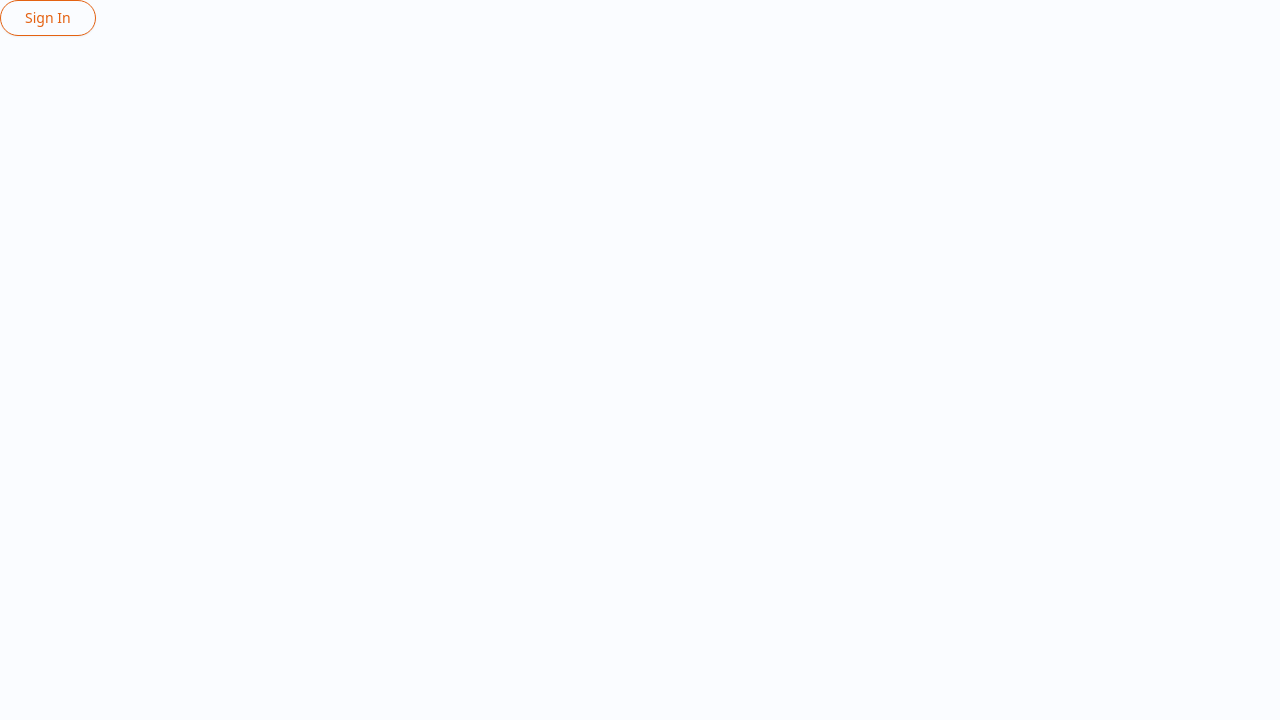
Test: AuthDialog › shows email input step when "Continue with Email" is clicked
Click the button "Sign In": point(48, 18) x1=0 y1=0 x2=96 y2=36
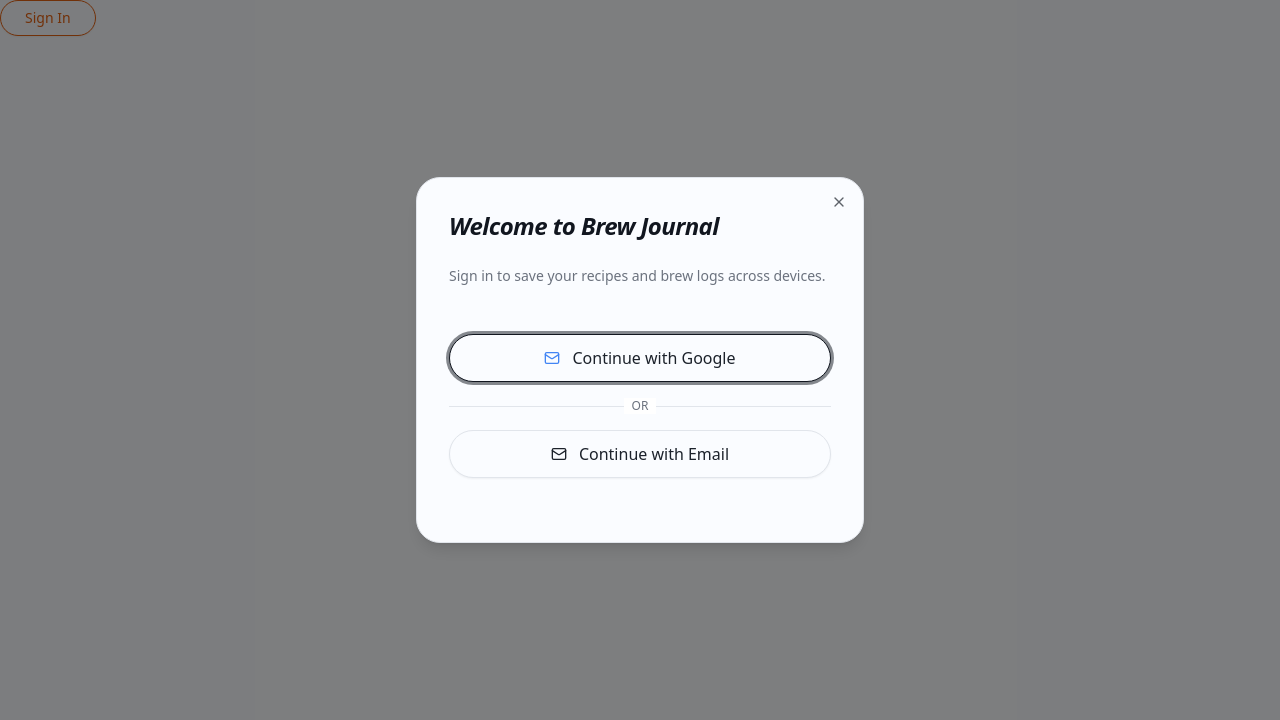
Click the button "Continue with Email": point(640, 454) x1=449 y1=430 x2=831 y2=478
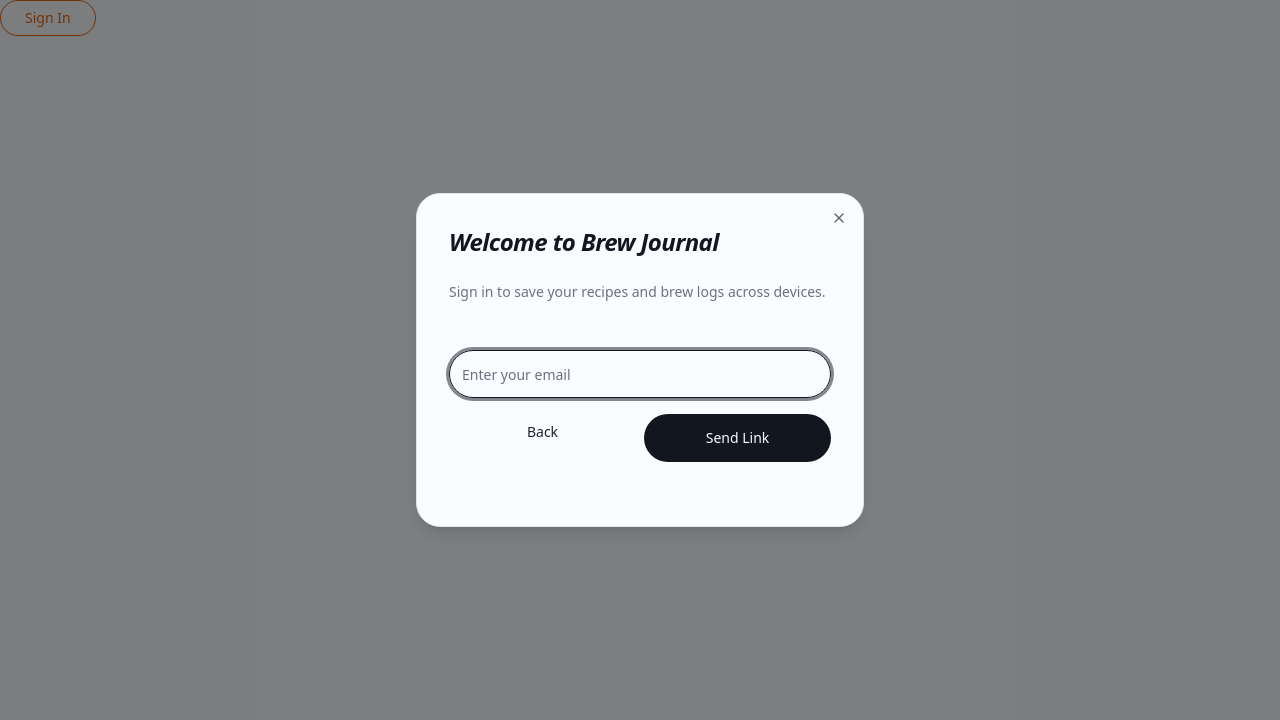
Now the field with placeholder "Enter your email" is shown, box x1=449 y1=350 x2=831 y2=398
Now the button "Back" is shown, box x1=449 y1=414 x2=636 y2=450
